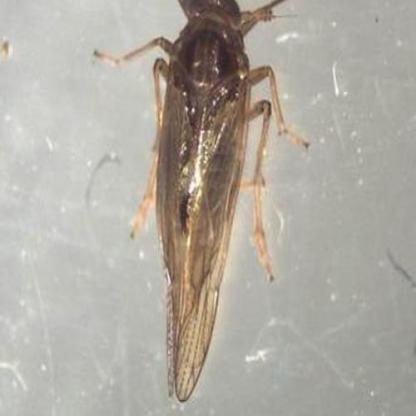brown-planthopper: (138, 0, 276, 399)
